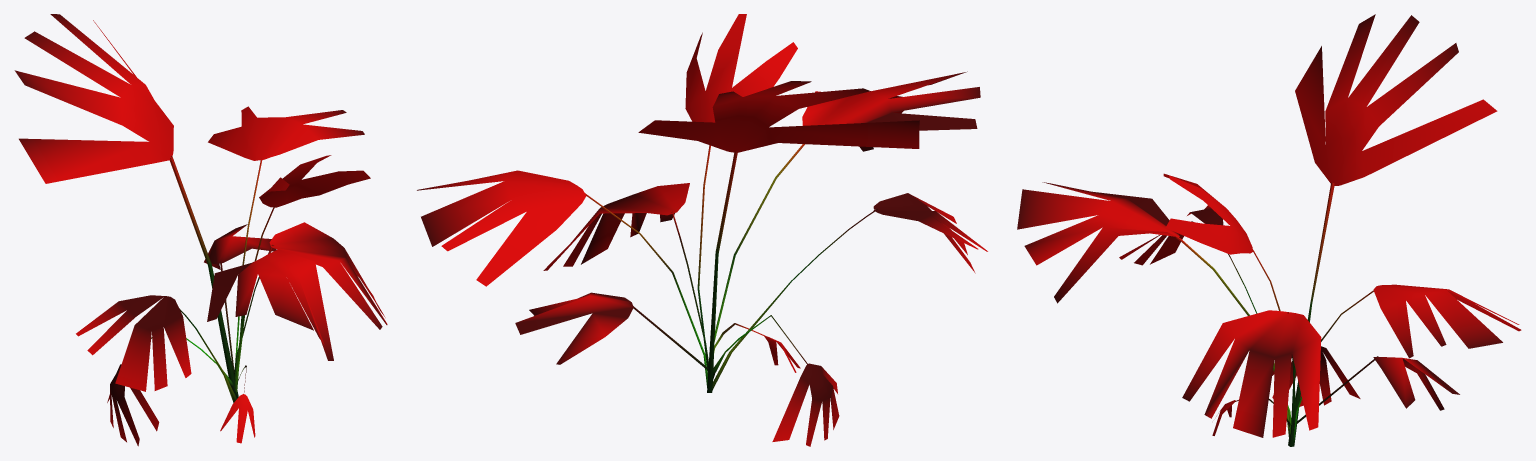
The model's file is Var1_LOD2.fbx.
3 renders of one model, left to right at view 1: azimuth 30°, elevation 25°; view 2: azimuth 150°, elevation 25°; view 3: azimuth 270°, elevation 25°, orthographic. The views are drawn at different scales.
Parts seen in each view (by area): view 1: _06c2_Var1_LOD2; view 2: _06c2_Var1_LOD2; view 3: _06c2_Var1_LOD2.
Part boxes in pixels (box(x1,y1,x2,y2)): _06c2_Var1_LOD2: box(14, 14, 387, 446); _06c2_Var1_LOD2: box(417, 14, 987, 446); _06c2_Var1_LOD2: box(1017, 14, 1521, 446).
Bounding box in the file's own units: 110 × 101 × 124.
